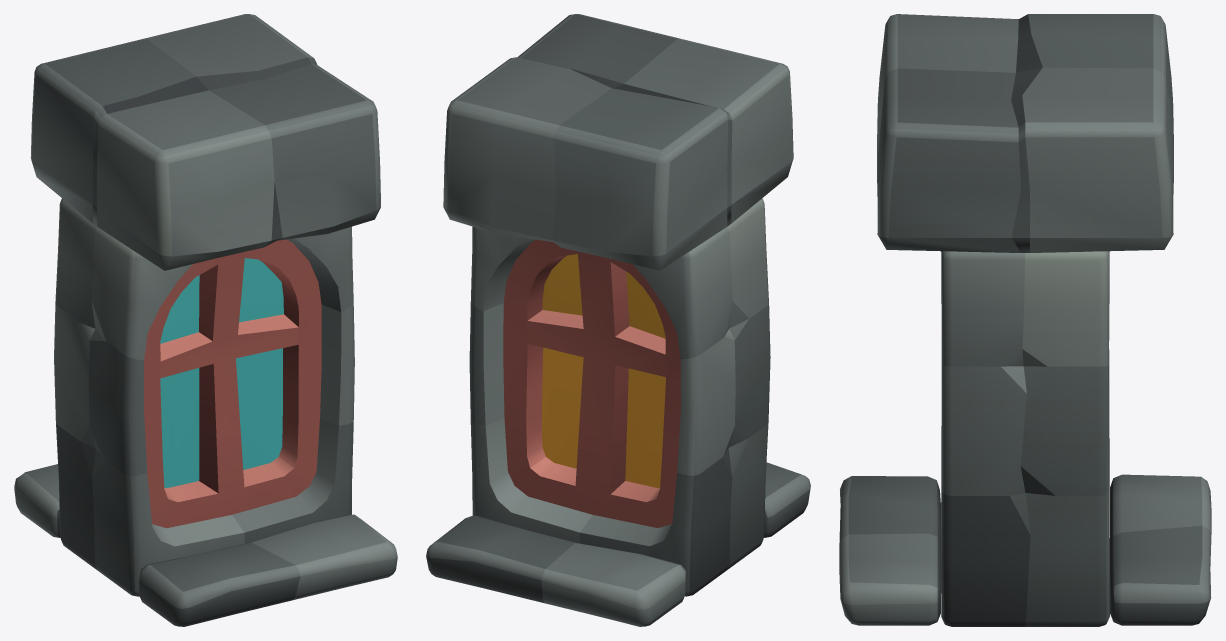
Rendered from tavern_window_big.fbx.
3 renders of one model, left to right at view 1: azimuth 30°, elevation 25°; view 2: azimuth 150°, elevation 25°; view 3: azimuth 270°, elevation 25°, orthographic. The views are drawn at different scales.
Parts seen in each view (by area): view 1: tavern_window_big_LOD0; view 2: tavern_window_big_LOD0; view 3: tavern_window_big_LOD0.
Part boxes in pixels (box(x1,y1,x2,y2)): tavern_window_big_LOD0: box(14, 14, 397, 626); tavern_window_big_LOD0: box(426, 14, 810, 626); tavern_window_big_LOD0: box(839, 14, 1211, 626).
Size of what is drawn, in the model's own units: 104 by 202 by 134.
